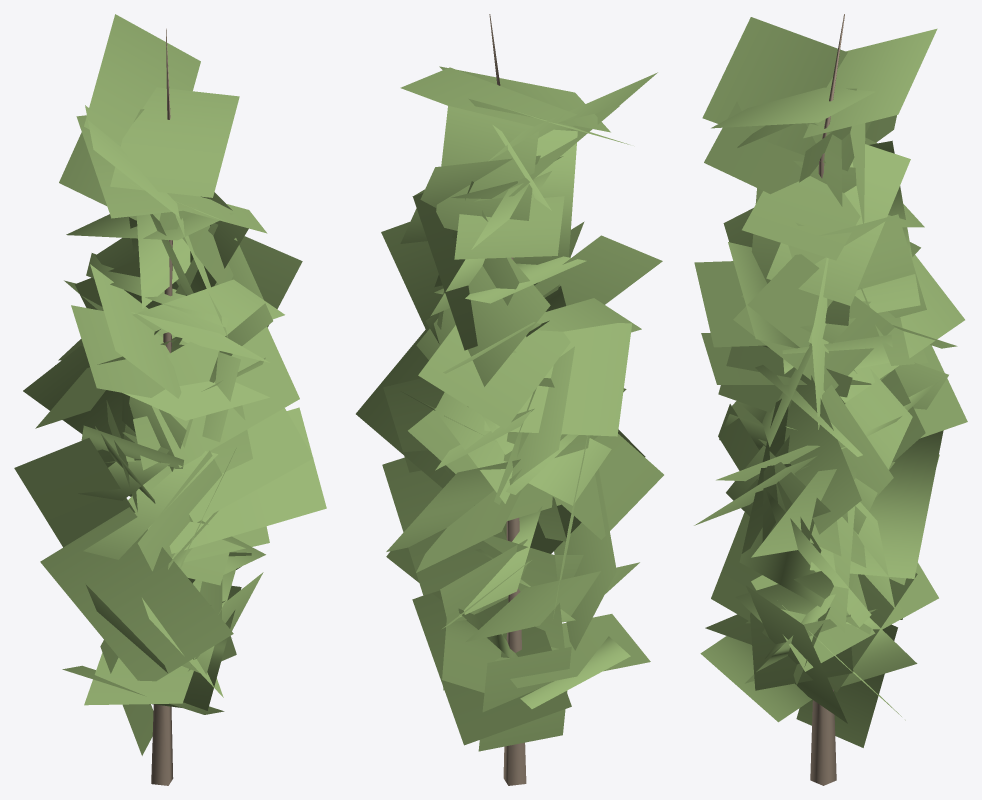
File: Poplar_12_young_lod2.glb
3 views of the same model, side by side, from view 1: azimuth 30°, elevation 25°; view 2: azimuth 150°, elevation 25°; view 3: azimuth 270°, elevation 25° (orthographic). The views are drawn at different scales.
Parts seen in each view (by area): view 1: Poplar_12_young_lod2; view 2: Poplar_12_young_lod2; view 3: Poplar_12_young_lod2.
Part boxes in pixels (x1,y1,x2,y2): Poplar_12_young_lod2: [14, 14, 326, 785]; Poplar_12_young_lod2: [356, 14, 663, 785]; Poplar_12_young_lod2: [694, 14, 967, 785].
Size of the model in its own units: 3.9 by 11.16 by 3.6.
